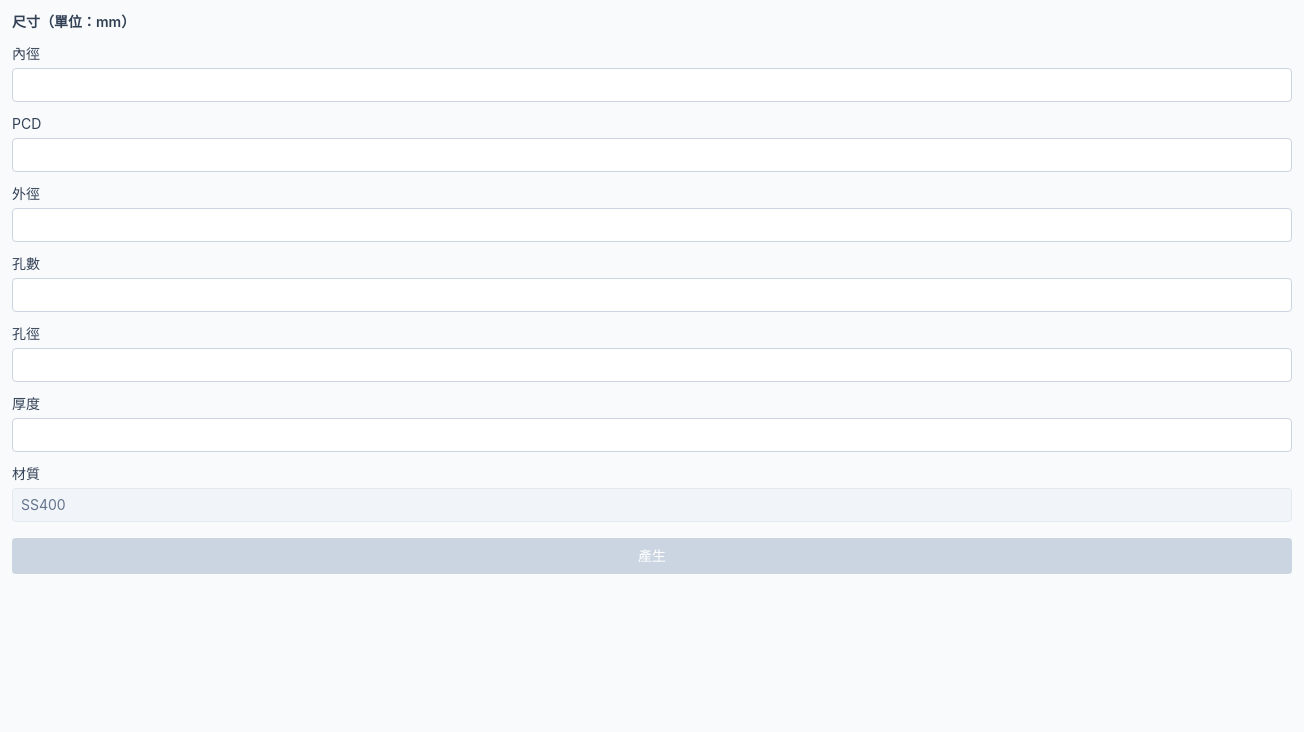
it: FlangeForm › submit button is enabled after filling all valid values
Type "100" into the number field with test id "field-inner_diameter_mm" at [652, 85], box [12, 68, 1292, 102]
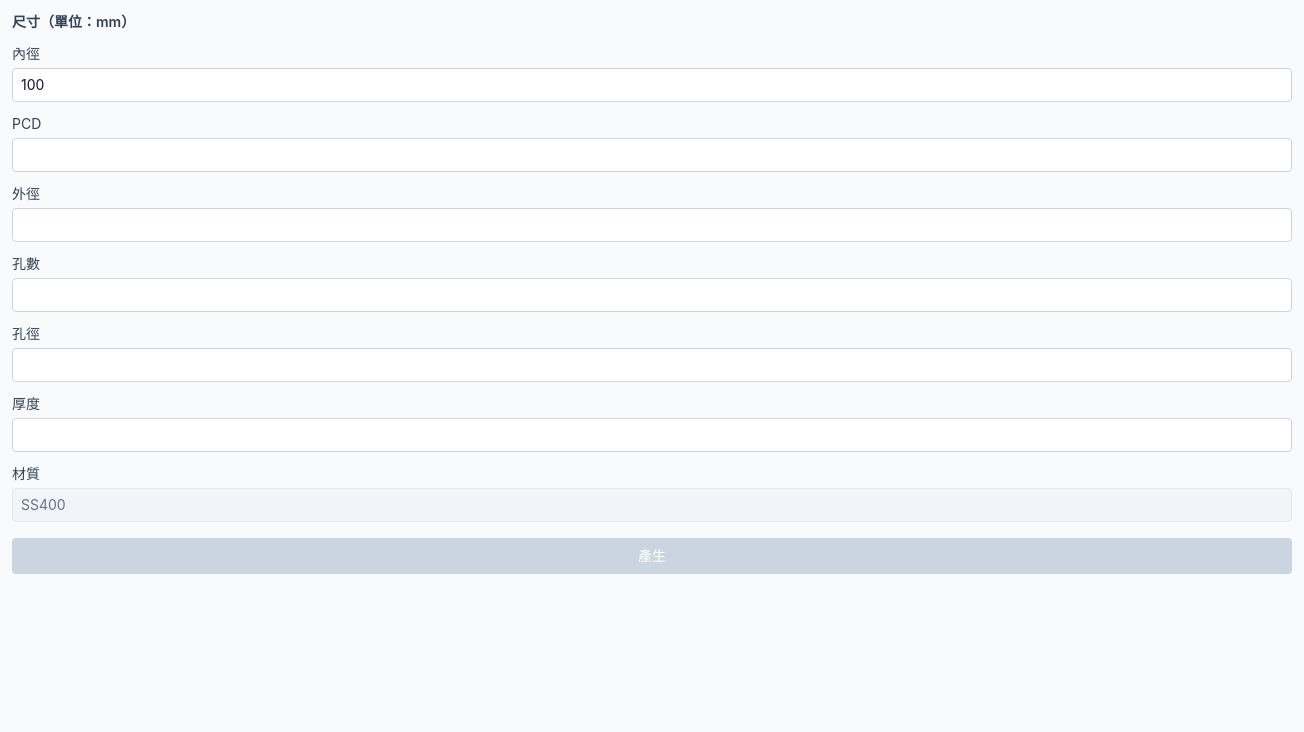
Type "150" into the number field with test id "field-pcd_mm" at [652, 155], box [12, 138, 1292, 172]
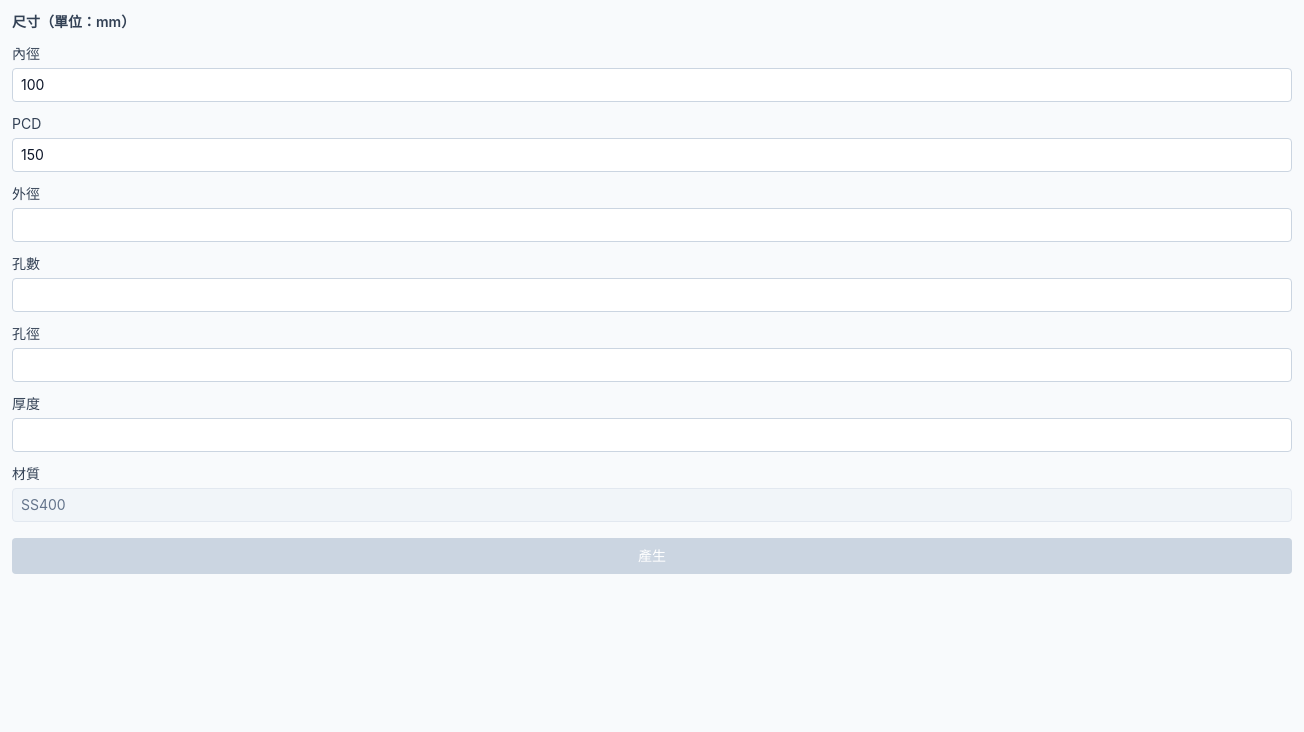
Type "200" into the number field with test id "field-outer_diameter_mm" at [652, 225], box [12, 208, 1292, 242]
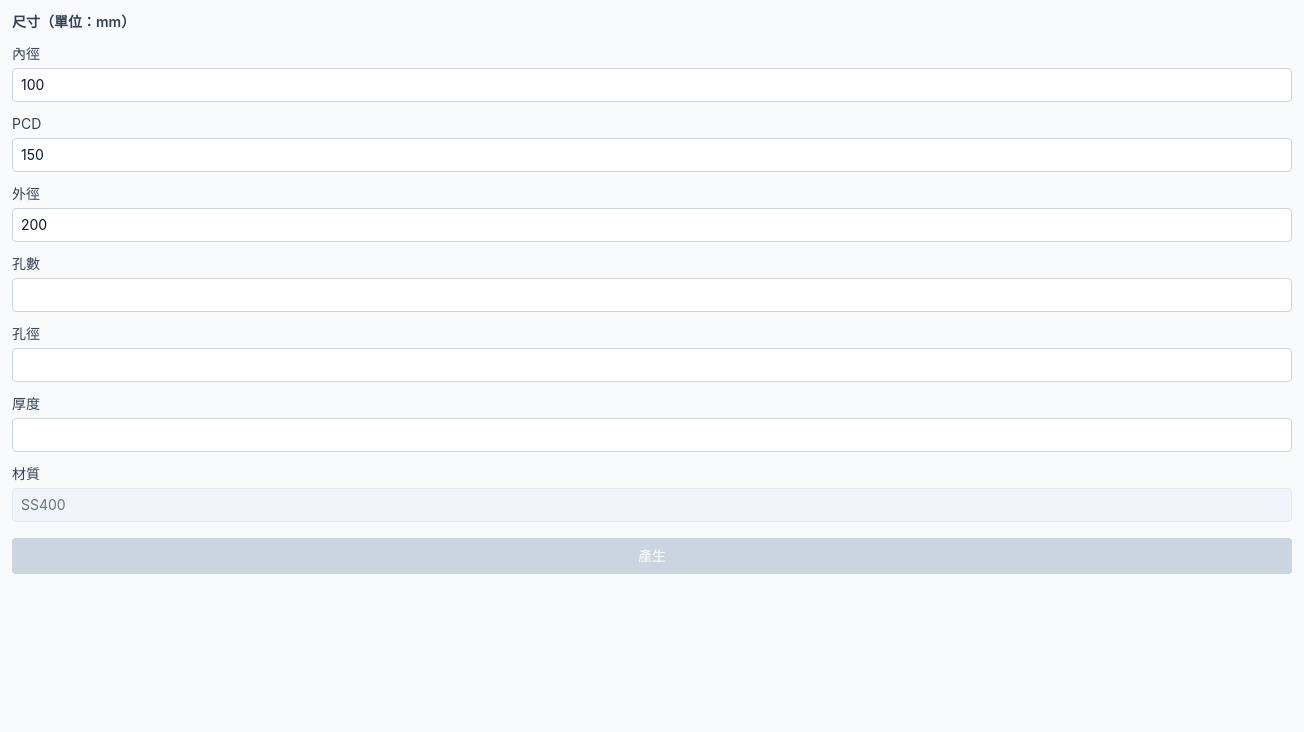
Type "4" into the number field with test id "field-bolt_hole_count" at [652, 295], box [12, 278, 1292, 312]
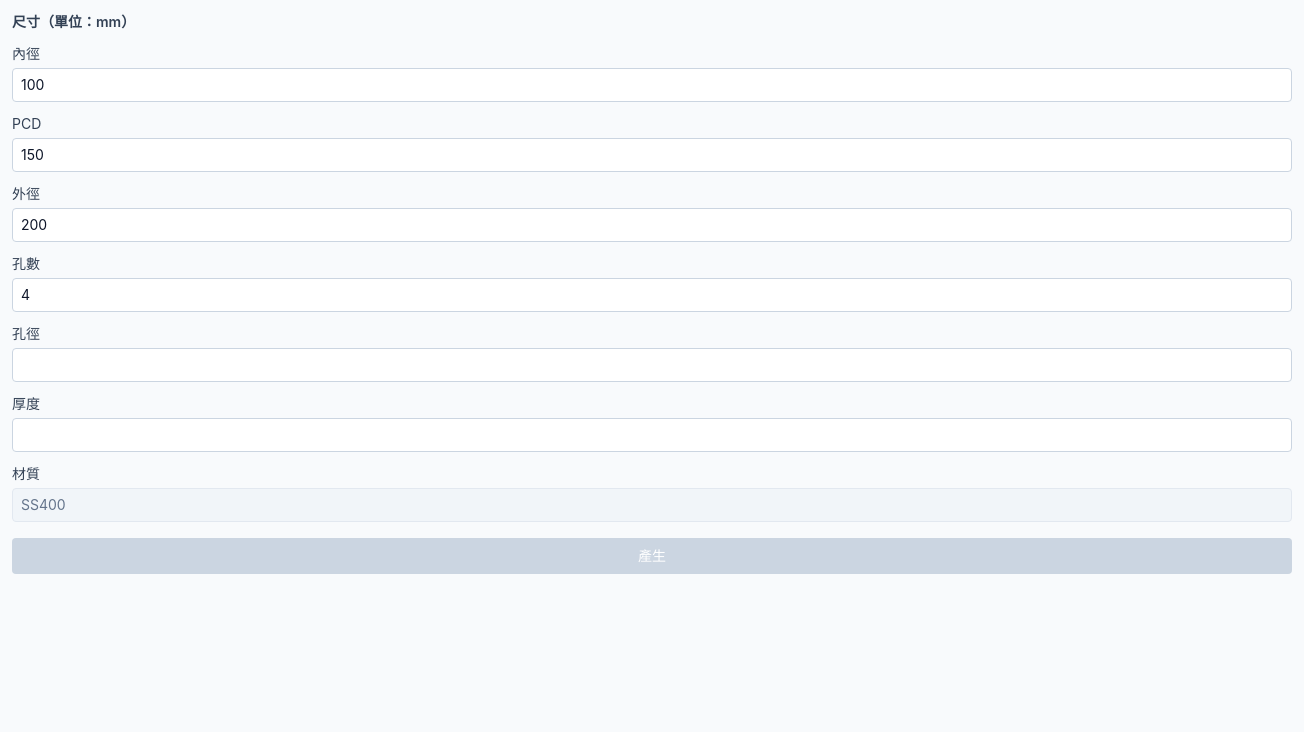
Type "10" into the number field with test id "field-bolt_hole_diameter_mm" at [652, 365], box [12, 348, 1292, 382]
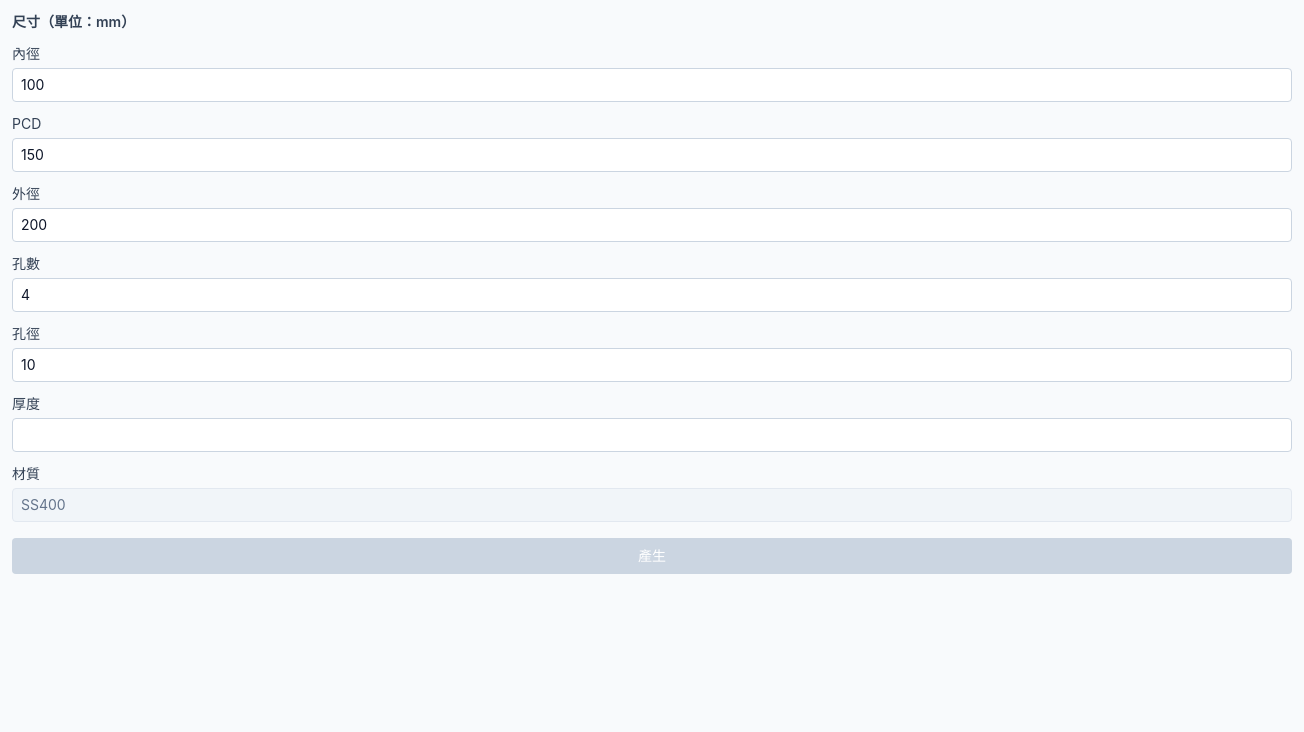
Type "12" into the number field with test id "field-thickness_mm" at [652, 435], box [12, 418, 1292, 452]
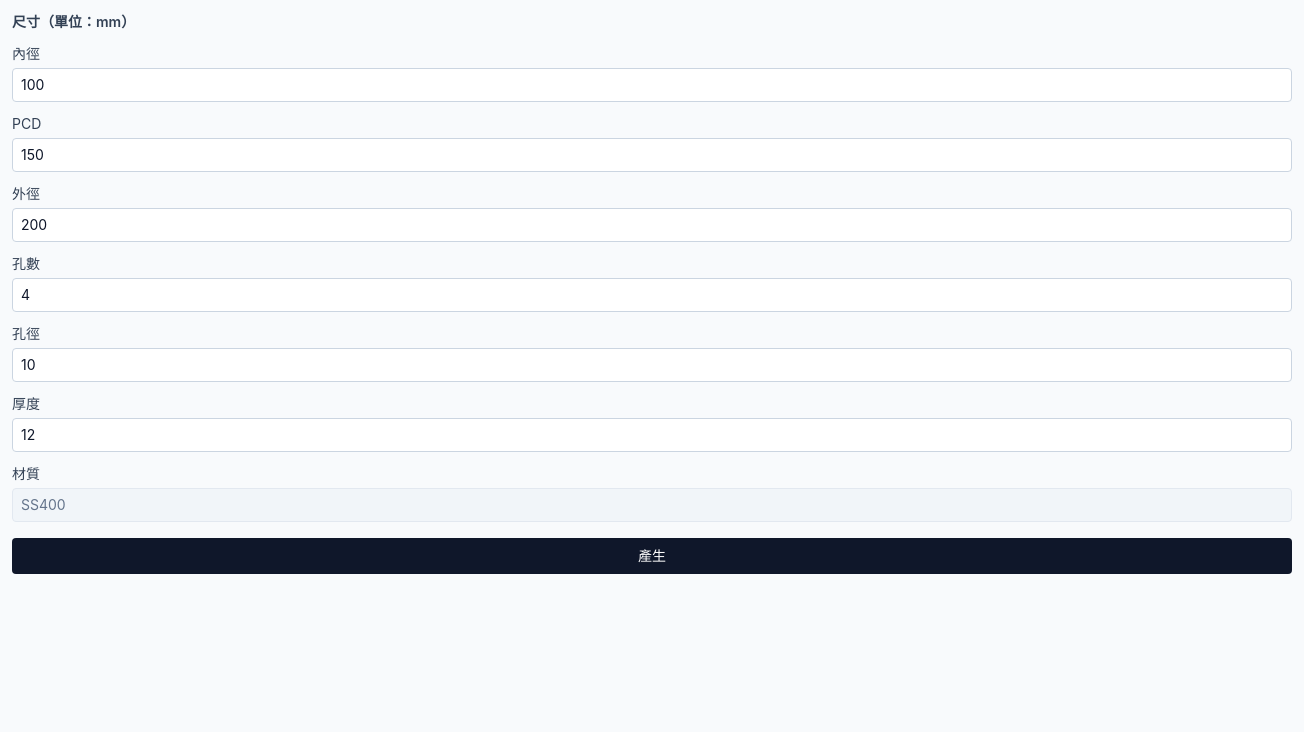
Expected: the button with test id "submit" is enabled, [12, 538, 1292, 574]
